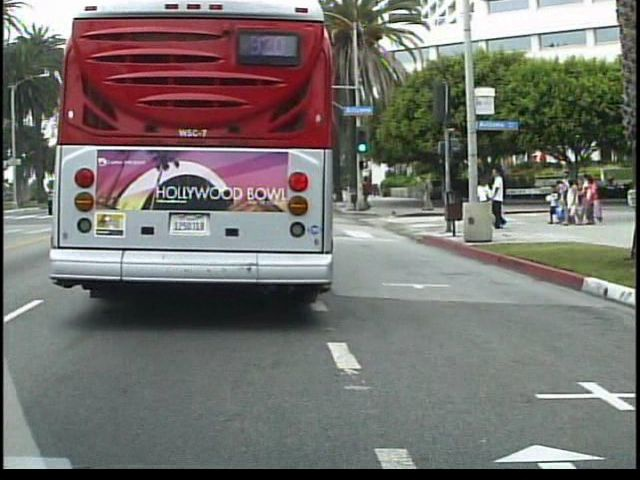person: (493, 164, 513, 234), (474, 173, 496, 226), (361, 174, 381, 214), (420, 172, 437, 214)
